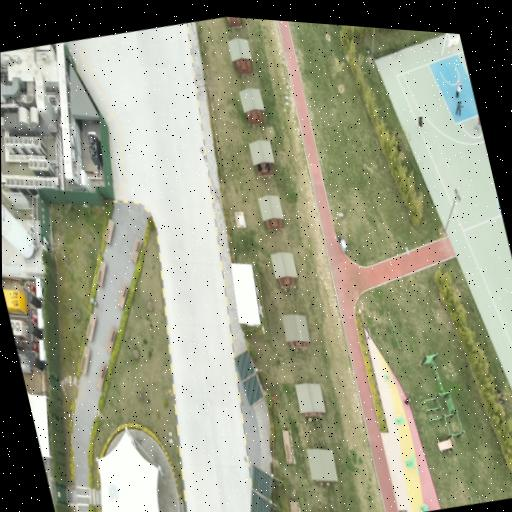person: (456, 101, 464, 116), (455, 81, 462, 98), (418, 116, 423, 129), (405, 396, 411, 405), (476, 119, 480, 130), (398, 144, 402, 152)
